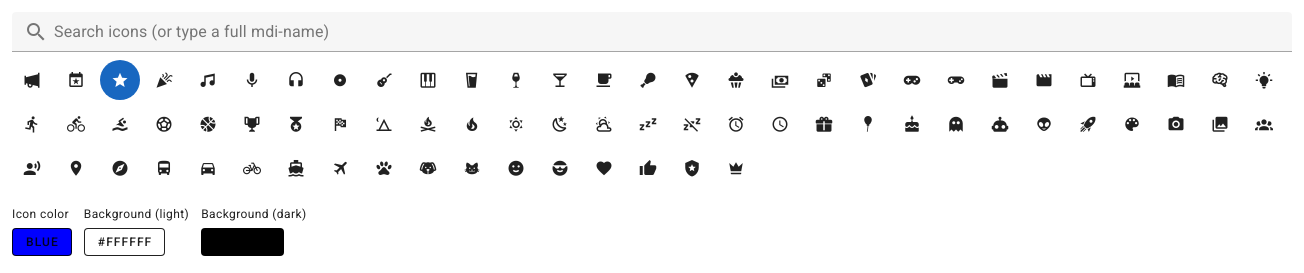
Test: IconColorPicker › offers a custom mdi-name candidate for an exact, unmatched query
Type "mdi-something-totally-custom" into the field labelled "Search icons (or type a full mdi-name)".
click(670, 32); type("mdi-something-totally-custom")  # box [48, 12, 1292, 52]
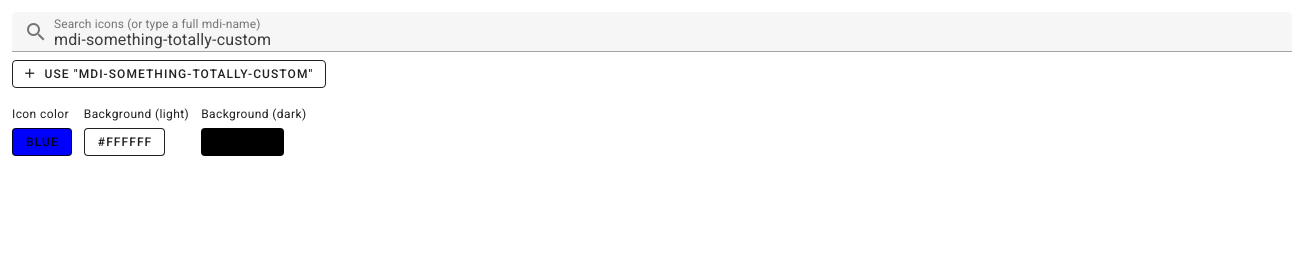
Now the text "Use \"mdi-something-totally-custom\"" is shown, box [44, 67, 313, 81]
